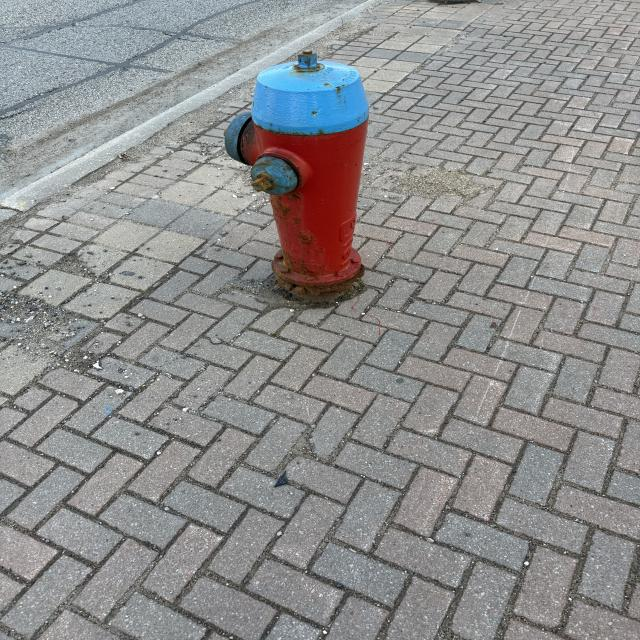Fire hydrant: (222, 49, 370, 302)
